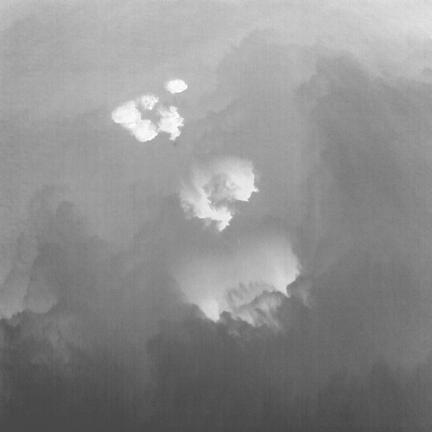flukeprints: (180, 190, 232, 230), (112, 101, 157, 141), (157, 105, 183, 140), (230, 169, 257, 201), (165, 79, 187, 93)
